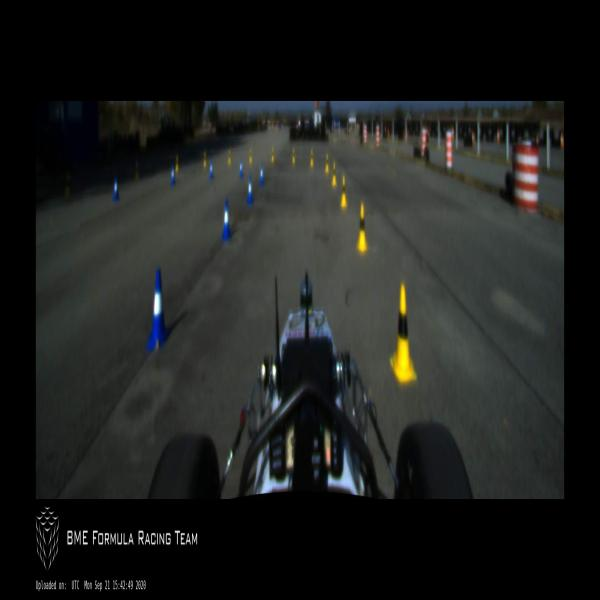blue_cone: (147, 270, 168, 349), (222, 199, 231, 240), (247, 177, 253, 203), (113, 176, 119, 200), (259, 164, 264, 186), (171, 165, 175, 185), (239, 159, 243, 178), (209, 162, 213, 180)
yellow_cone: (390, 285, 416, 381), (357, 203, 368, 252), (341, 176, 347, 208), (332, 162, 337, 187), (325, 154, 329, 173), (310, 150, 314, 167), (175, 155, 179, 172), (203, 151, 207, 167), (292, 148, 295, 164), (271, 149, 274, 163), (249, 149, 252, 163), (228, 150, 231, 164)
